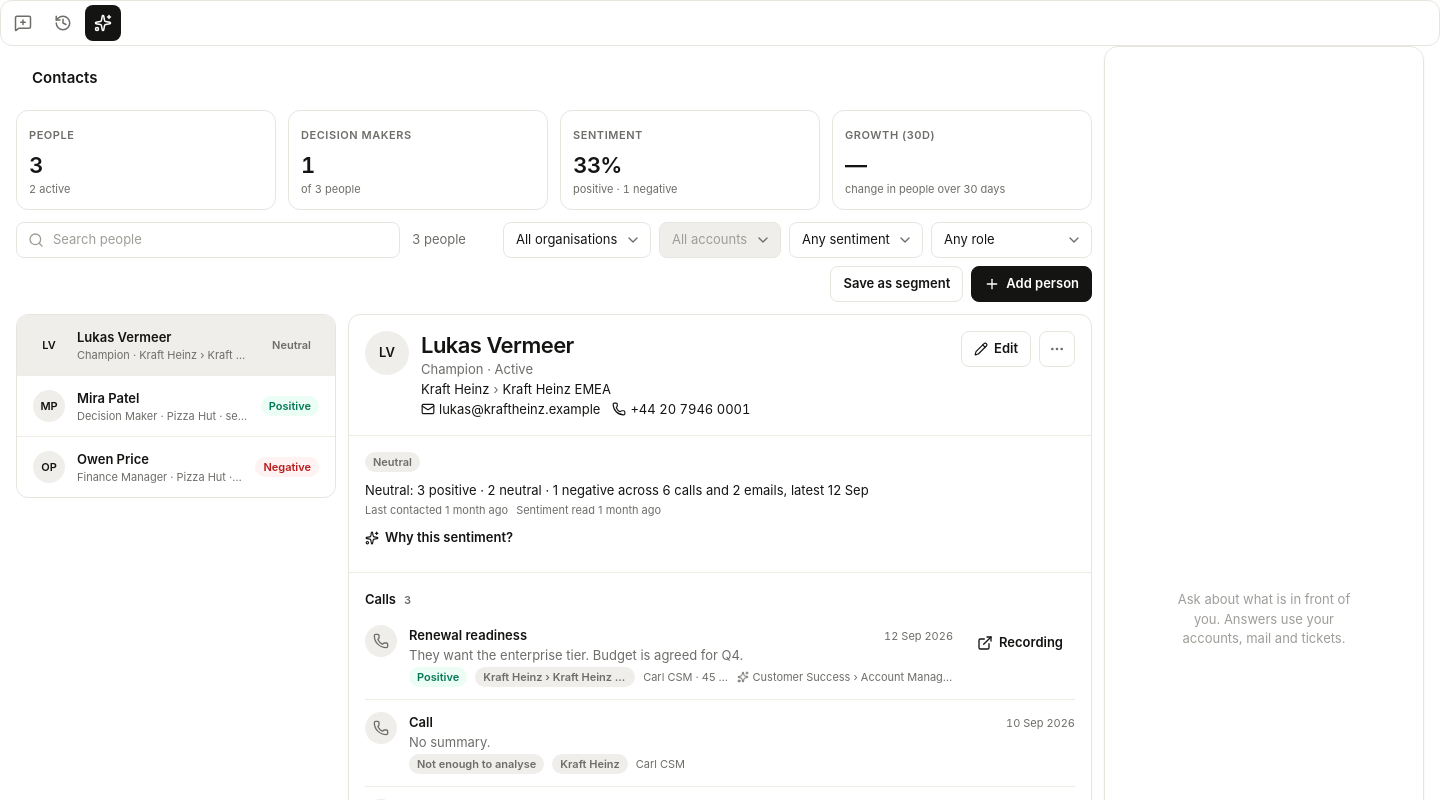
Test case: History on Contacts › reopens a list conversation with its filters
The width and height of the screenshot is (1440, 800).
Expected: the heading "Lukas Vermeer" is shown, x1=421 y1=332 x2=574 y2=358
Click the button named "History". click: (63, 23)
box: x1=45 y1=5 x2=81 y2=41
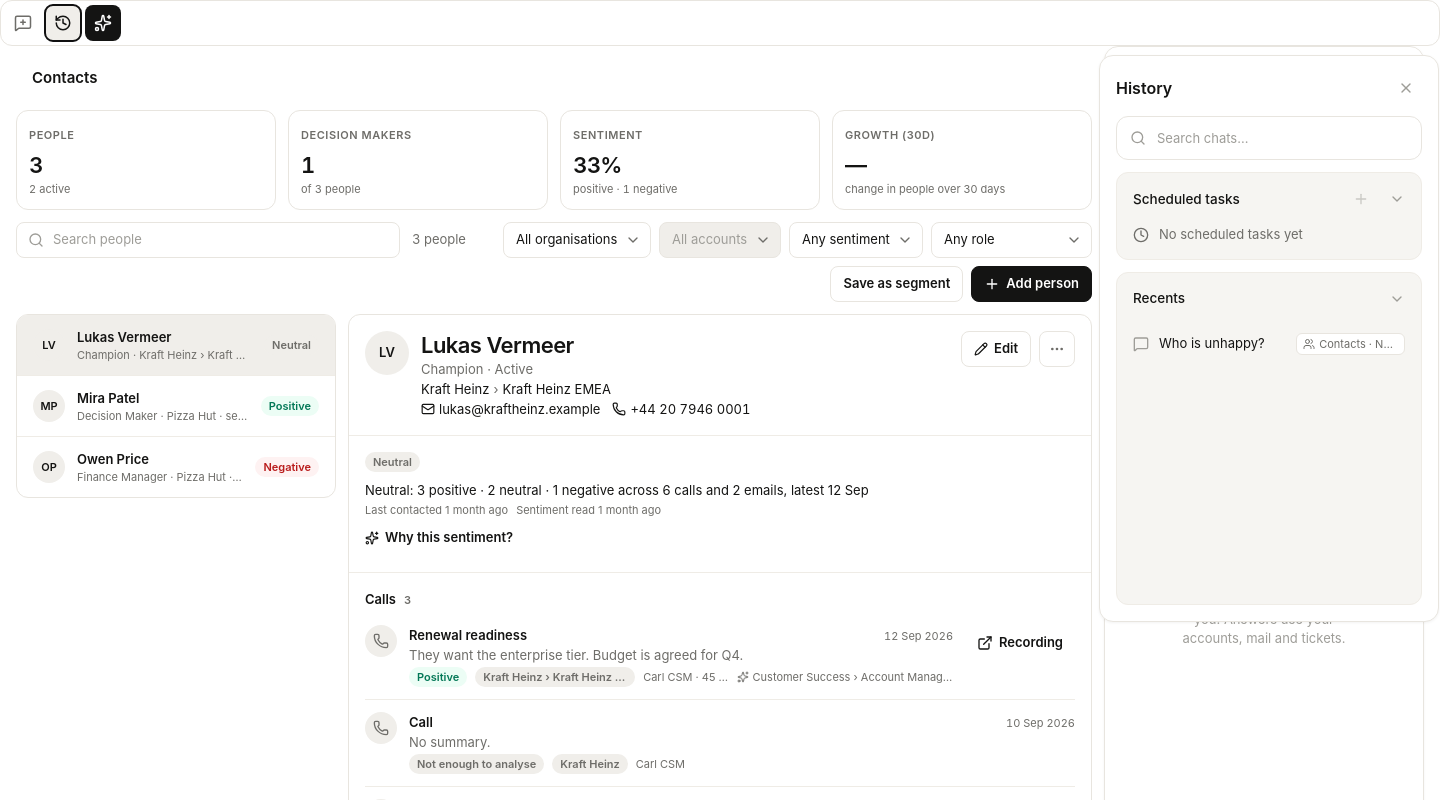
Click the button "Who is unhappy? Contacts · Negative". click: (1212, 343)
box: x1=1125 y1=324 x2=1413 y2=363
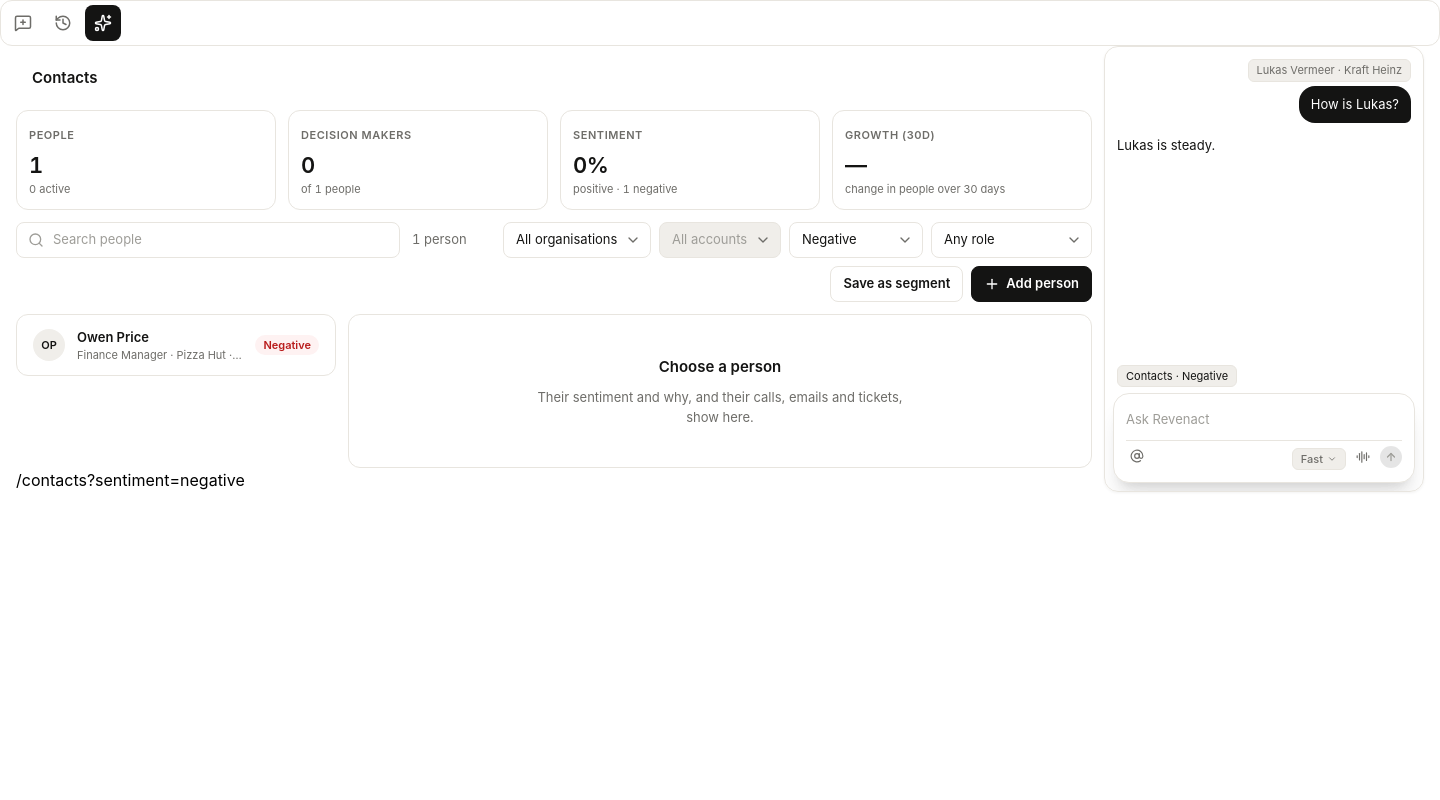
Result: the text with test id "where" reads "/contacts?sentiment=negative" at x1=16 y1=470 x2=245 y2=490
Result: the text "Lukas is steady." is shown at x1=1117 y1=135 x2=1215 y2=156
